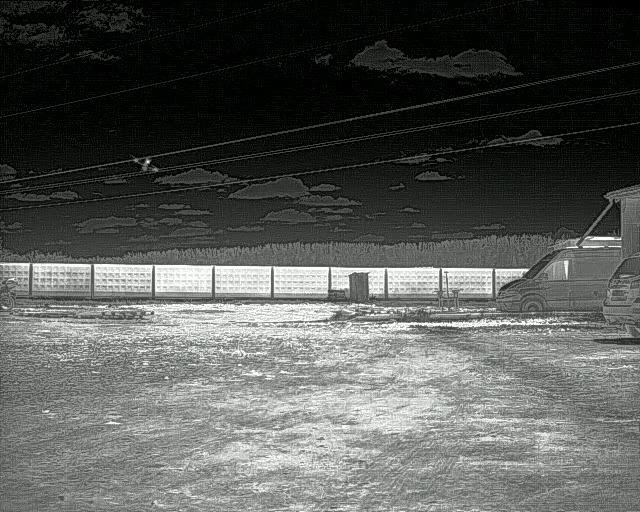drone-thermal: (128, 150, 160, 176)
